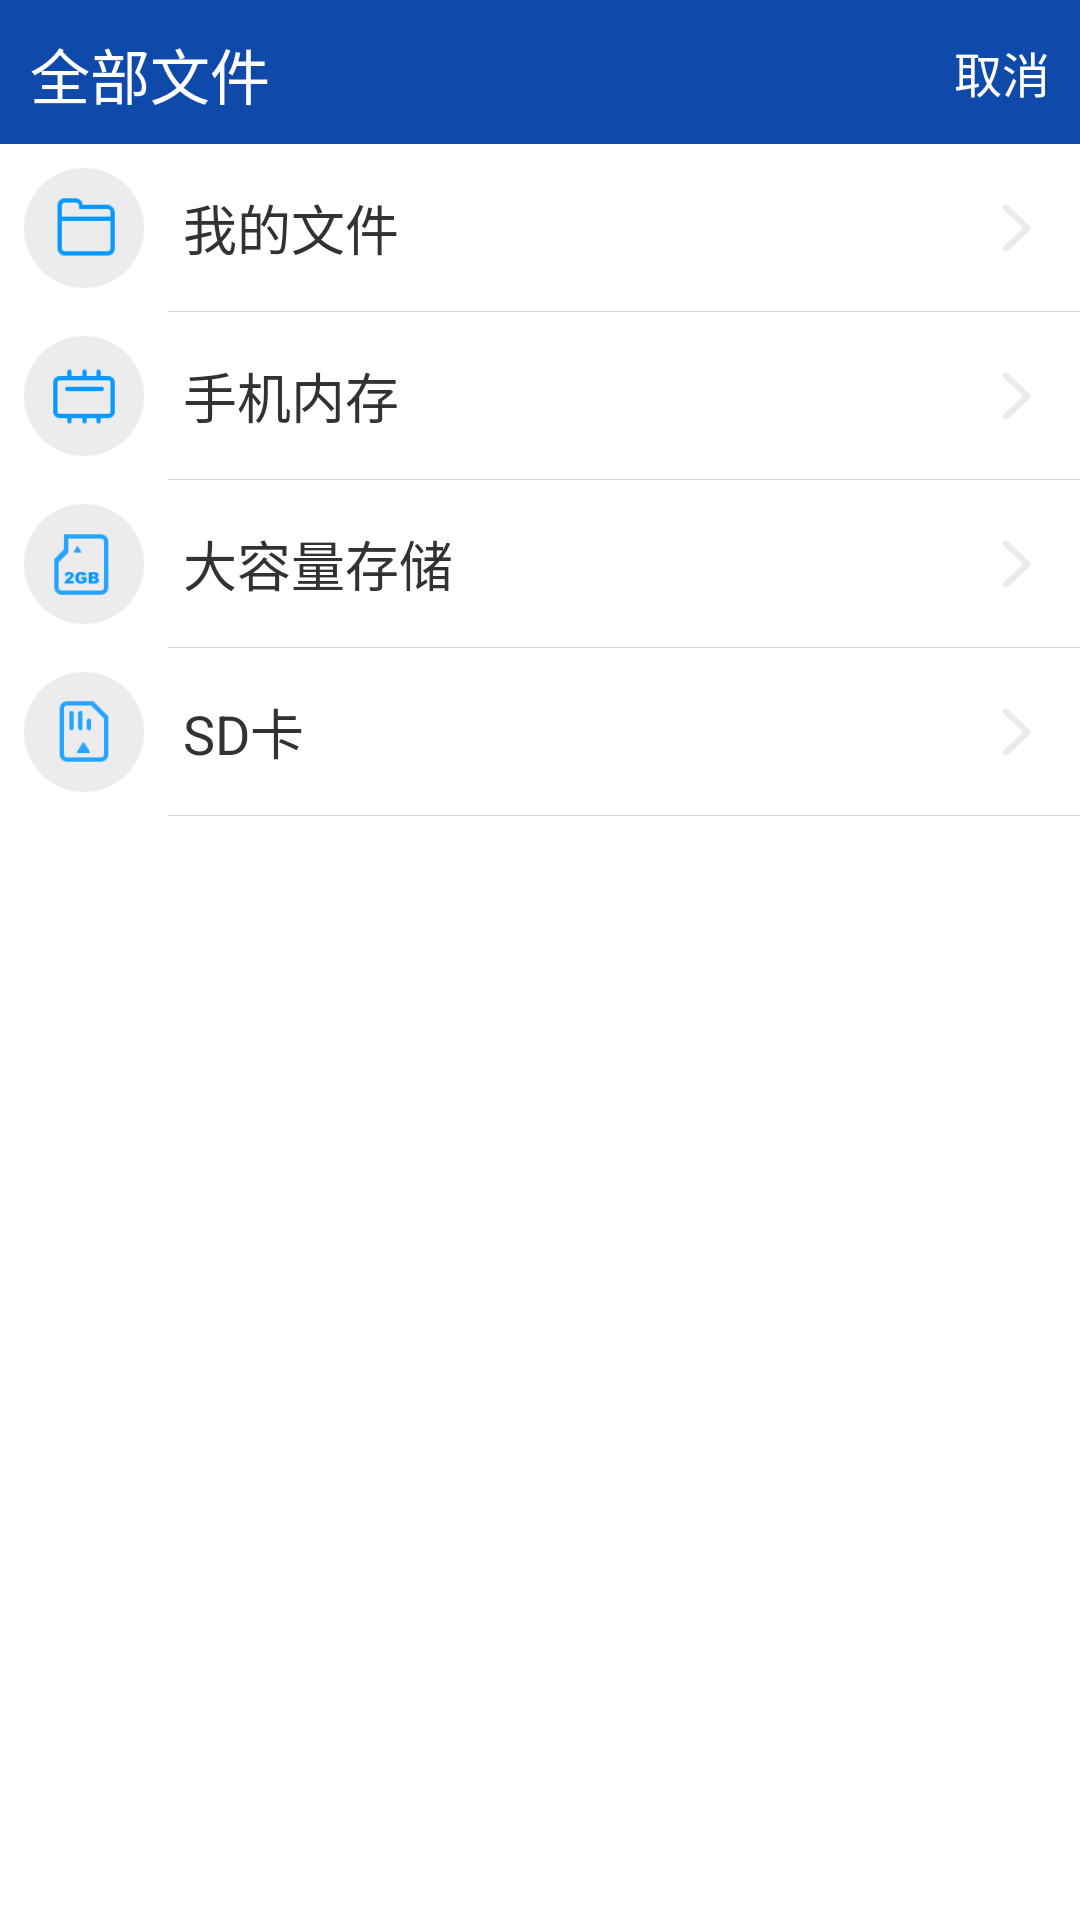

Where to tap for icons on this 1080*1920 app screen, as (x,y):
file home folder: (84,228)
file home sd: (84,732)
